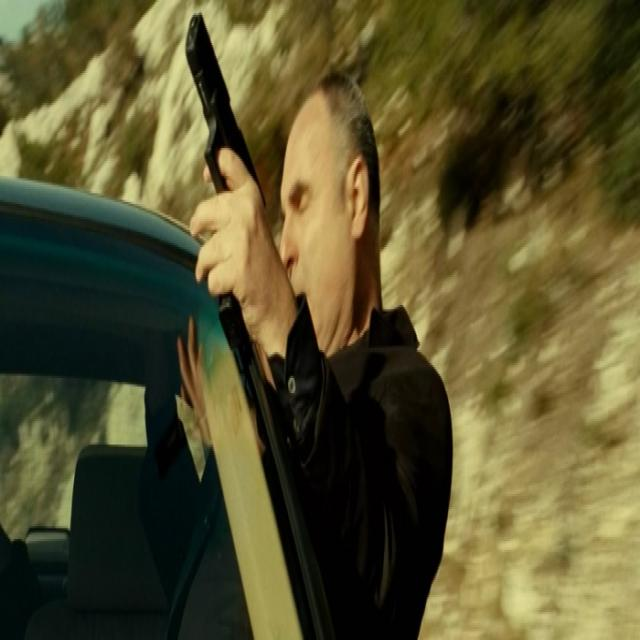weapons: (176, 3, 266, 310)
